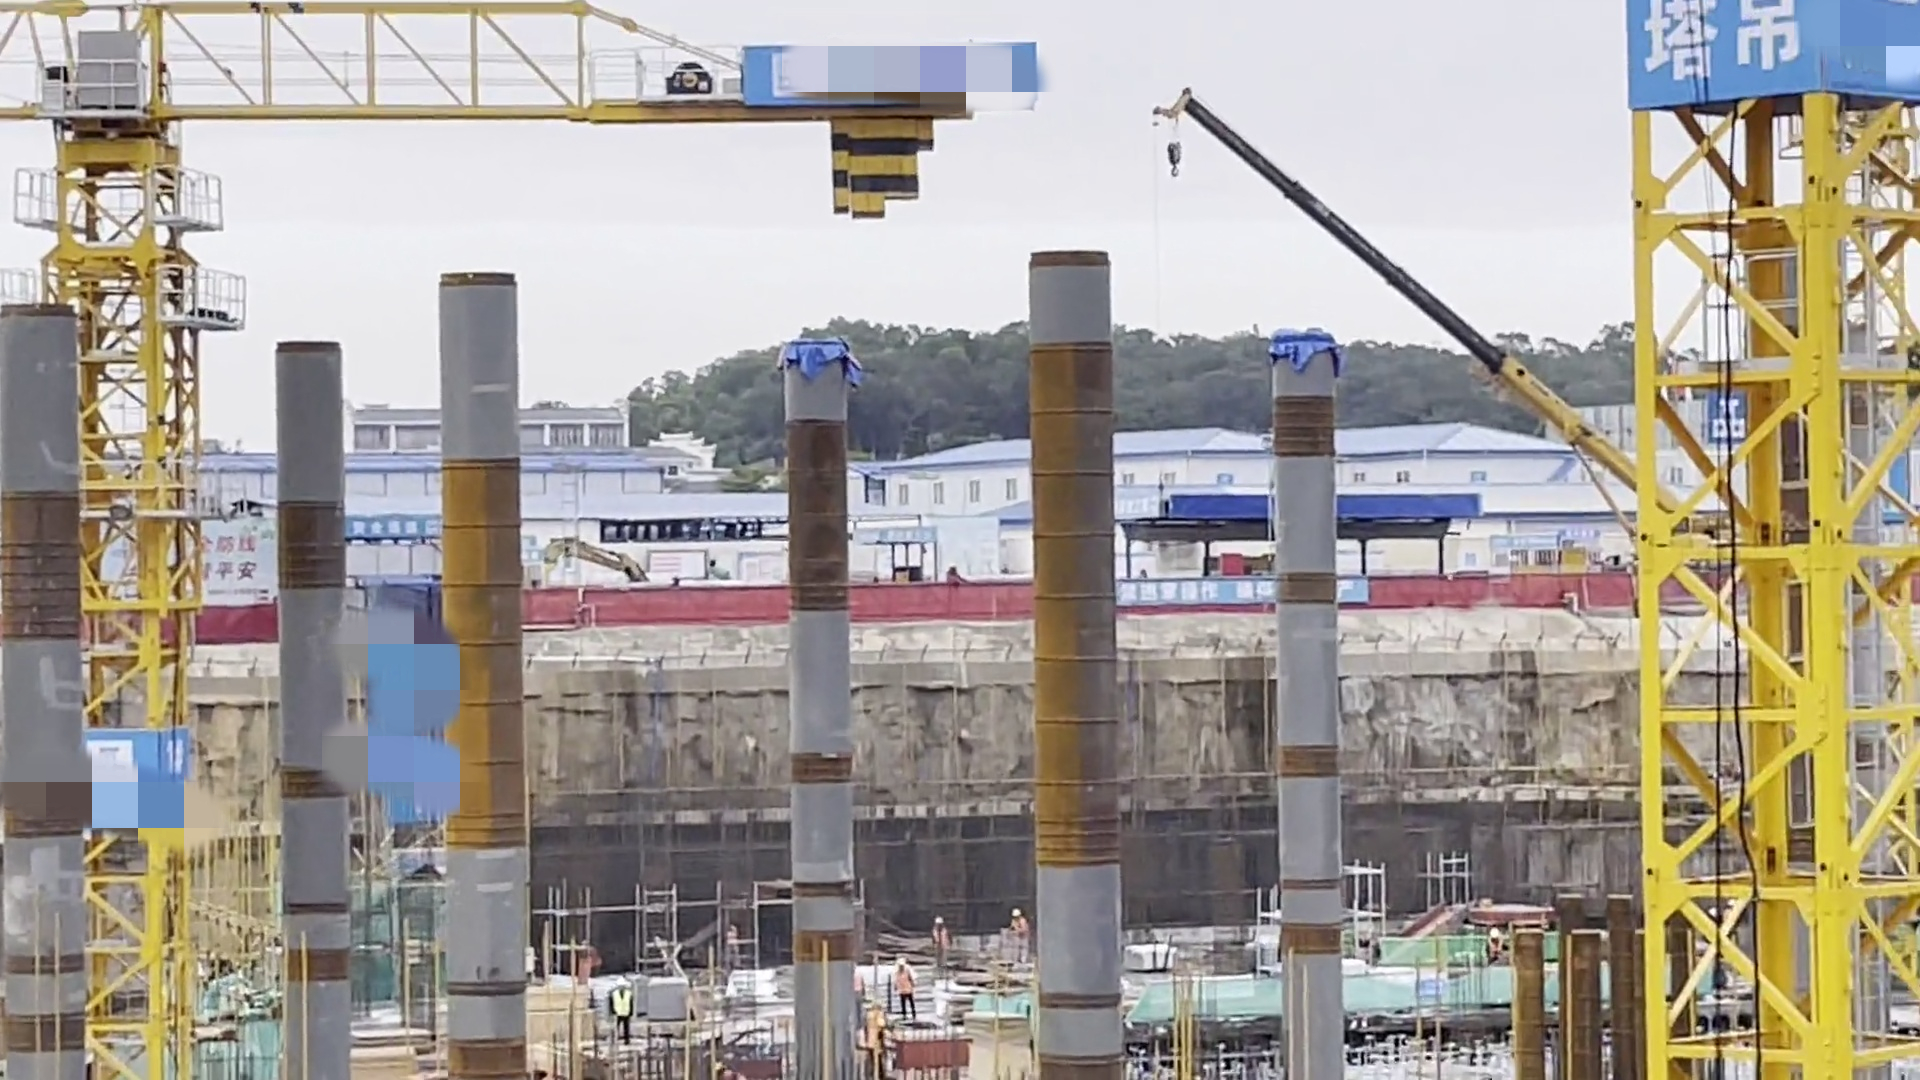fence: (1117, 561, 1625, 630), (515, 574, 817, 646), (848, 577, 1034, 635), (183, 581, 282, 653)
hook: (1135, 77, 1202, 206)
person: (1002, 887, 1034, 967), (605, 974, 640, 1041), (924, 908, 959, 968), (891, 950, 922, 1015)
slogan: (737, 37, 998, 103), (93, 513, 272, 602), (1118, 578, 1379, 615), (93, 731, 202, 810)
